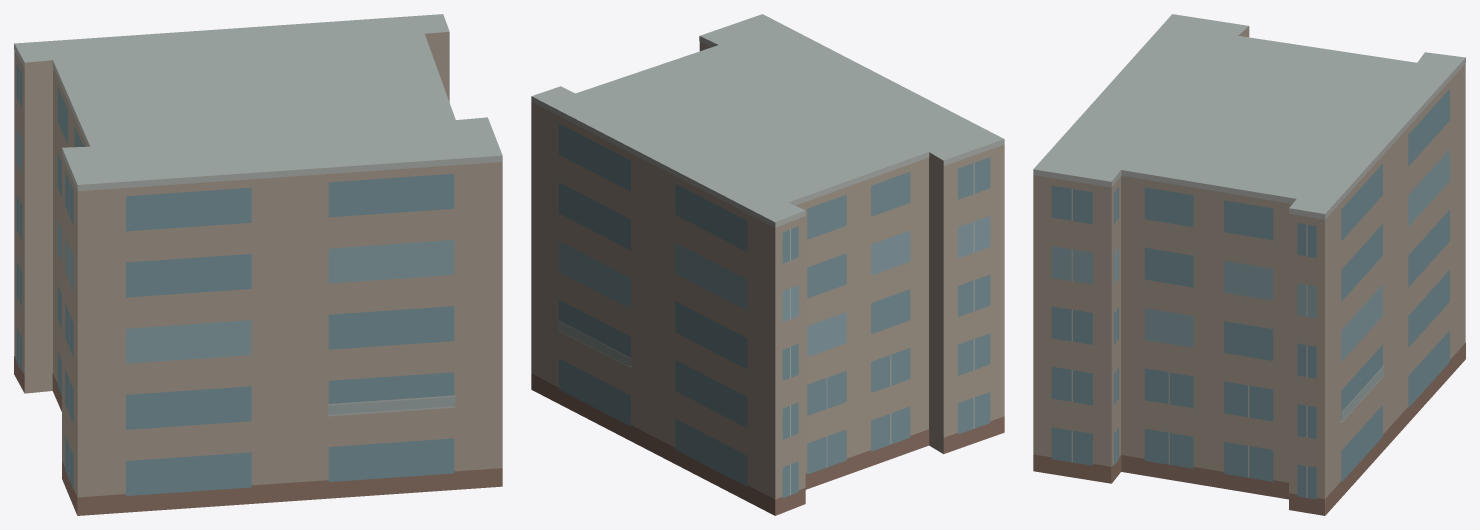
File: survey-upis-32710388.glb
The picture shows the model from 3 angles, left to right: view 1: azimuth 30°, elevation 25°; view 2: azimuth 150°, elevation 25°; view 3: azimuth 270°, elevation 25°; orthographic projection. The views are drawn at different scales.
Visible parts, largest first — view 1: survey-upis-32710388.tmp; view 2: survey-upis-32710388.tmp; view 3: survey-upis-32710388.tmp.
Boxes of the visible parts, left/top/right/bottom form: survey-upis-32710388.tmp: left=14, top=14, right=502, bottom=515; survey-upis-32710388.tmp: left=531, top=14, right=1004, bottom=515; survey-upis-32710388.tmp: left=1033, top=14, right=1465, bottom=515.
Size of the model in its own units: 18.35 by 12.9 by 16.77.
